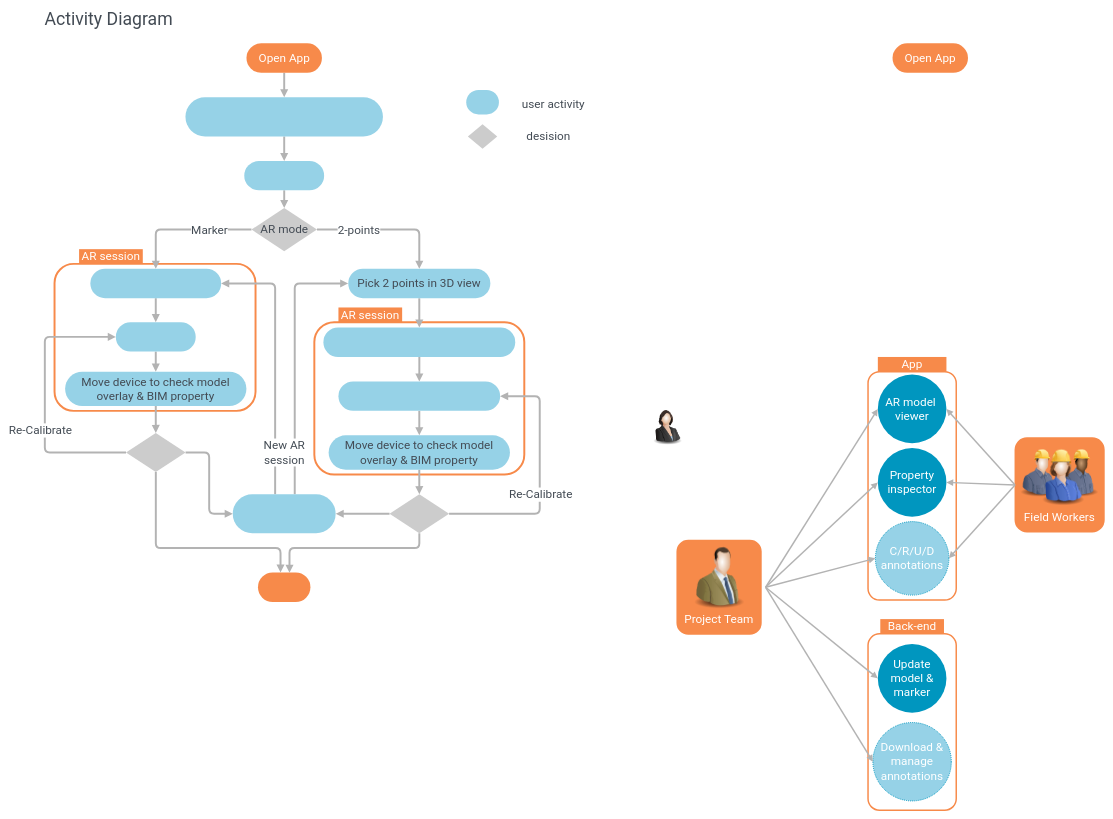
Some shapes in this 1113 by 819 pixel diagram are drawn without their labels. The box of each missing label's shape, as (x1, y1, x2, y2) in pixels:
Enable AR: (244, 161, 324, 190)
End: (258, 572, 310, 602)
Go to next checking point: (233, 494, 335, 533)
Navigate in 3D view & Check property in BIM Inspector: (185, 97, 383, 136)
Pick 2 points on AR plane: (338, 381, 500, 411)
Scan for point cloud: (90, 269, 221, 298)
Scan for point cloud & AR planes: (323, 327, 515, 357)
Scan marker: (116, 322, 195, 351)
